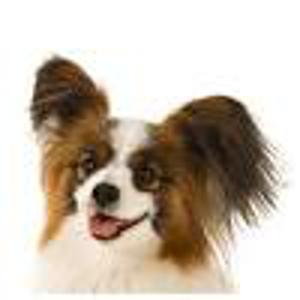yell: (29, 54, 274, 293)
